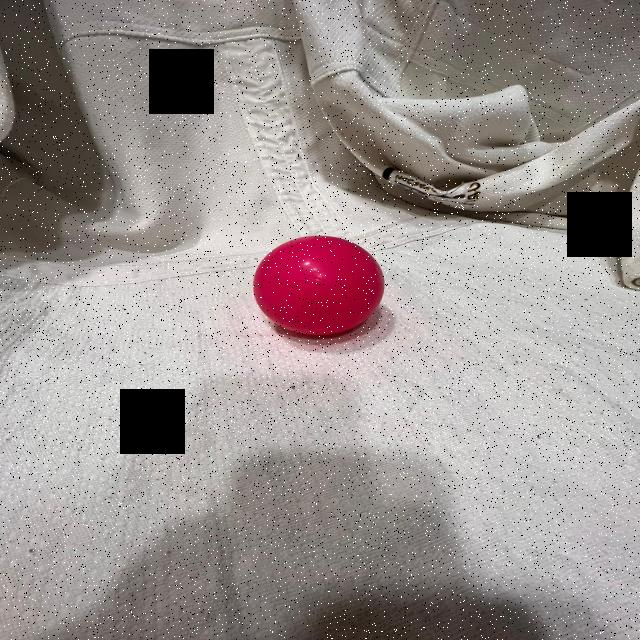ball: (250, 232, 386, 339)
